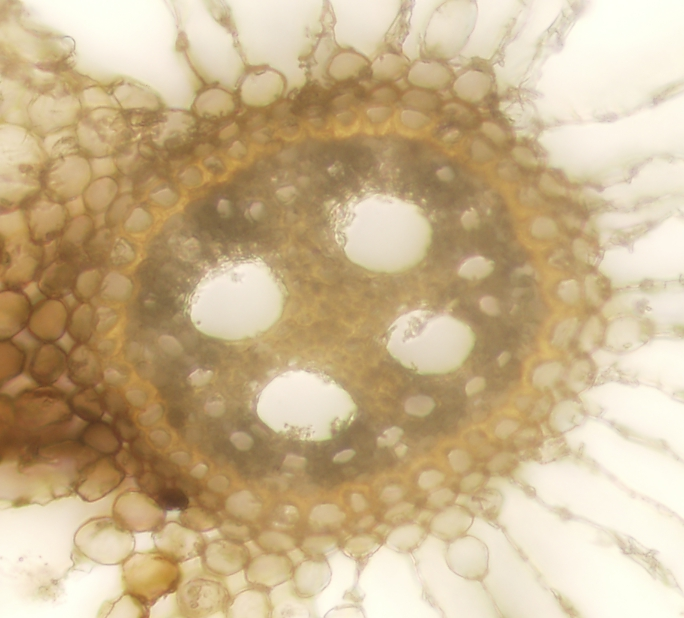lm: (187, 257, 287, 341), (330, 194, 433, 271), (258, 369, 359, 442), (383, 308, 475, 374)
